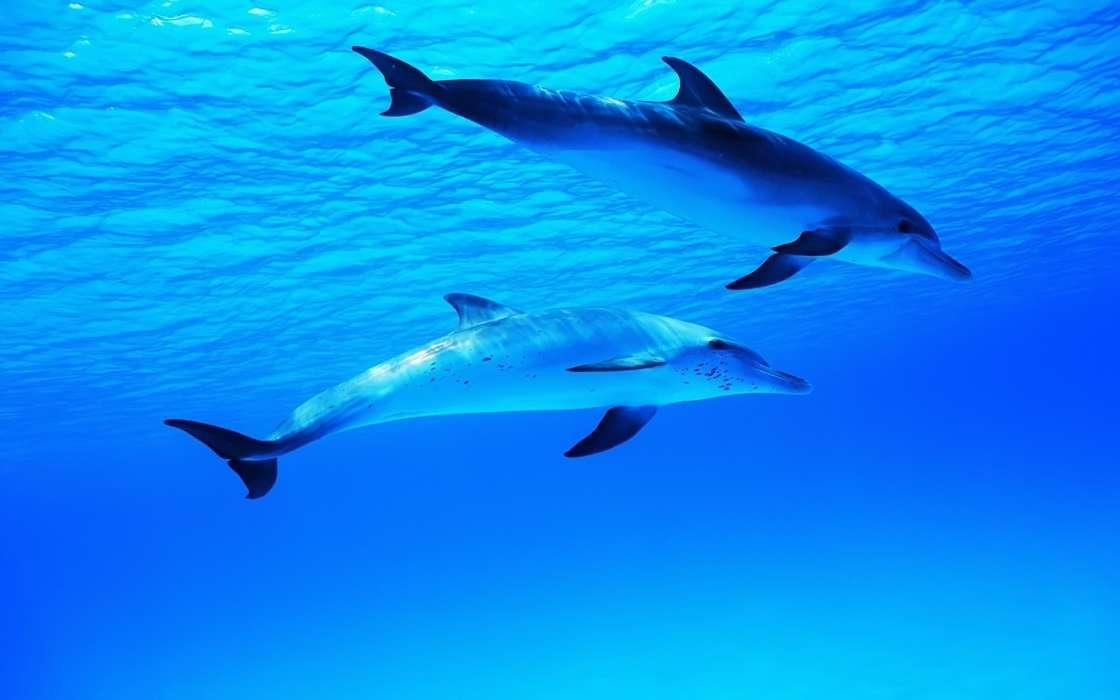fish: (344, 28, 988, 289), (161, 287, 822, 510)
